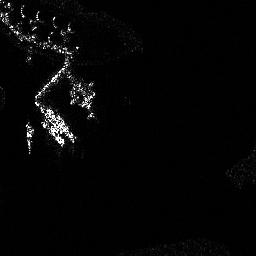ship: (39, 120, 64, 146)
